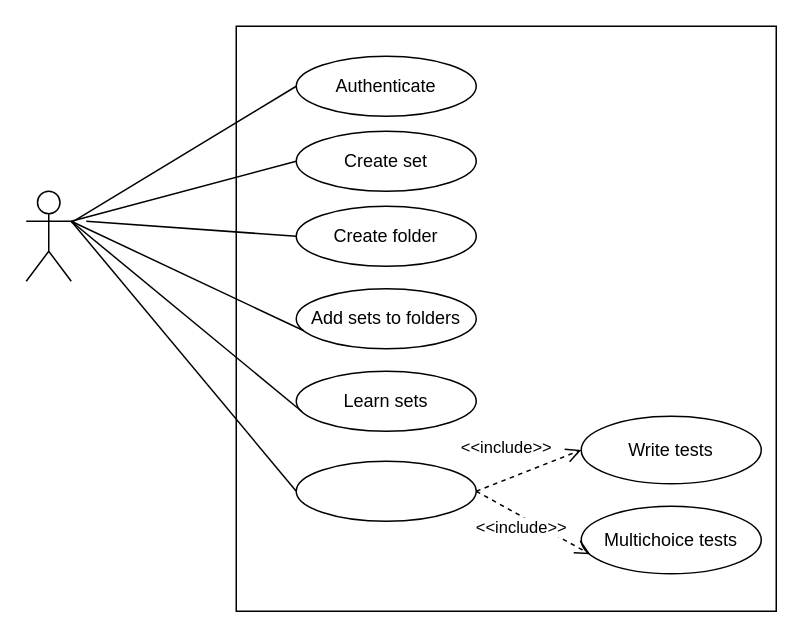
Image size: 803x638. Some labels were removed from this diagram. Here are the shapes that lost their labels. From the top down, the box of each, then its label:
(25, 190, 71, 281): User
(295, 460, 476, 521): Do tests
